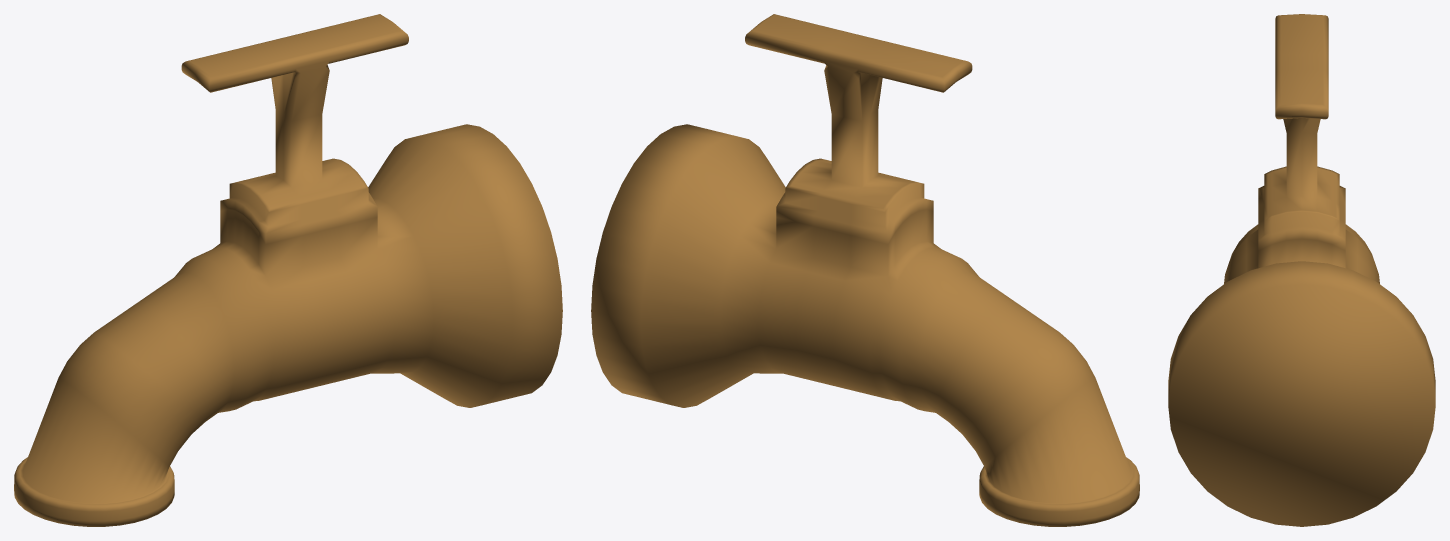
The model's file is faucet.fbx.
The picture shows the model from 3 angles, left to right: view 1: azimuth 30°, elevation 25°; view 2: azimuth 150°, elevation 25°; view 3: azimuth 270°, elevation 25°; orthographic projection. The views are drawn at different scales.
Parts seen in each view (by area): view 1: Cylinder.001; view 2: Cylinder.001; view 3: Cylinder.001.
Boxes of the visible parts, <box> form: Cylinder.001: <box>14,14,562,526</box>; Cylinder.001: <box>591,14,1139,526</box>; Cylinder.001: <box>1168,14,1435,526</box>.
Size of the model in its own units: 29.71 by 24.26 by 15.27.
